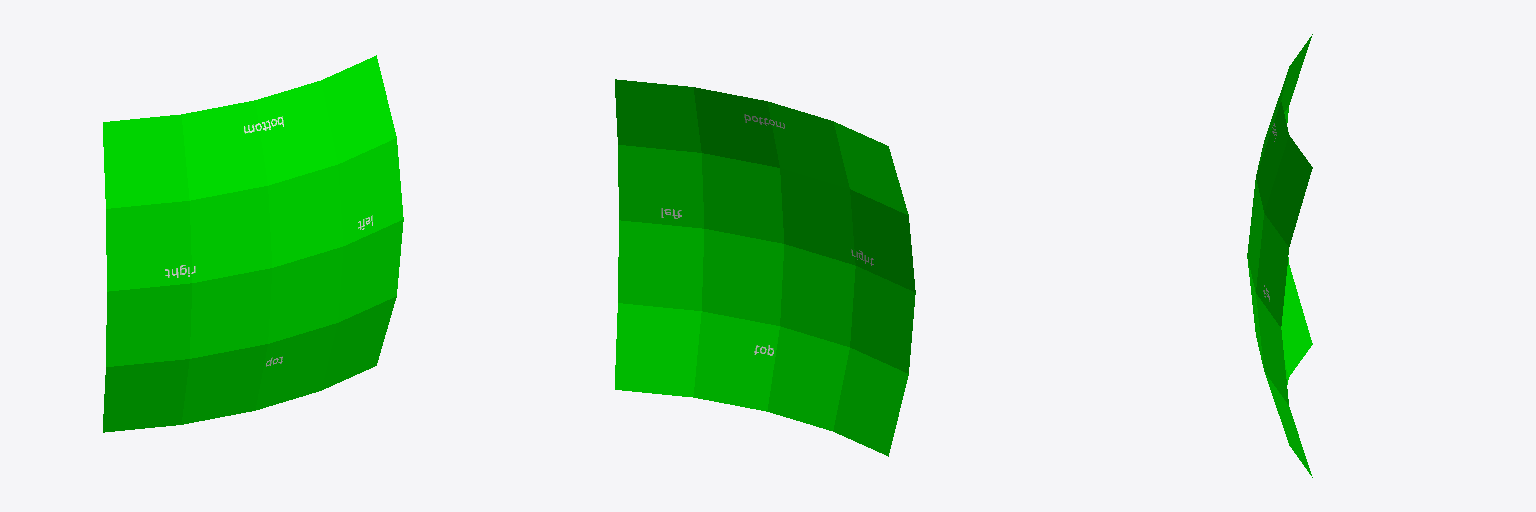
3 views of the same model, side by side, from view 1: azimuth 30°, elevation 25°; view 2: azimuth 150°, elevation 25°; view 3: azimuth 270°, elevation 25° (orthographic).
Visible parts, largest first — view 1: Sphere; view 2: Sphere; view 3: Sphere.
Part boxes in pixels (bbox=[...]): Sphere: bbox=[103, 55, 403, 432]; Sphere: bbox=[615, 79, 915, 456]; Sphere: bbox=[1247, 34, 1312, 477].
Size of the model in its own units: 0.7654 by 0.7654 by 0.1464.
Materials: 1 (1 with a texture image).